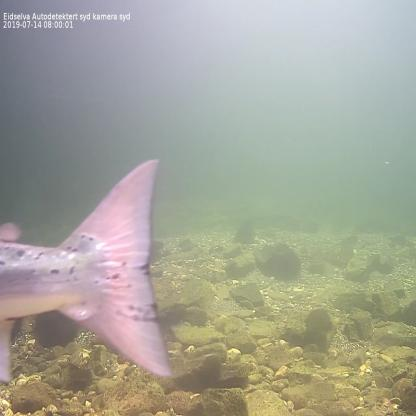salmon: (0, 156, 176, 384)
